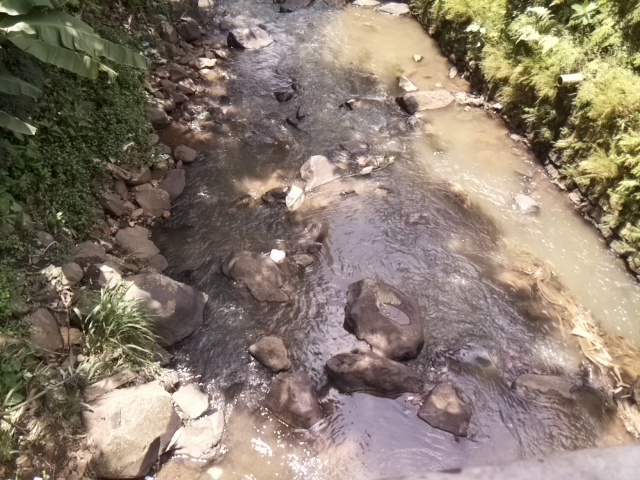Sampah_Plastik: (285, 183, 307, 210)
Sampah_Styrofoam: (268, 246, 290, 266)
